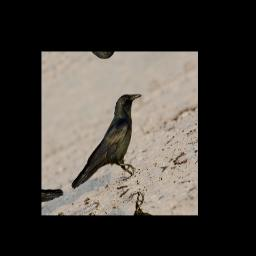Crow: (52, 86, 165, 205)
